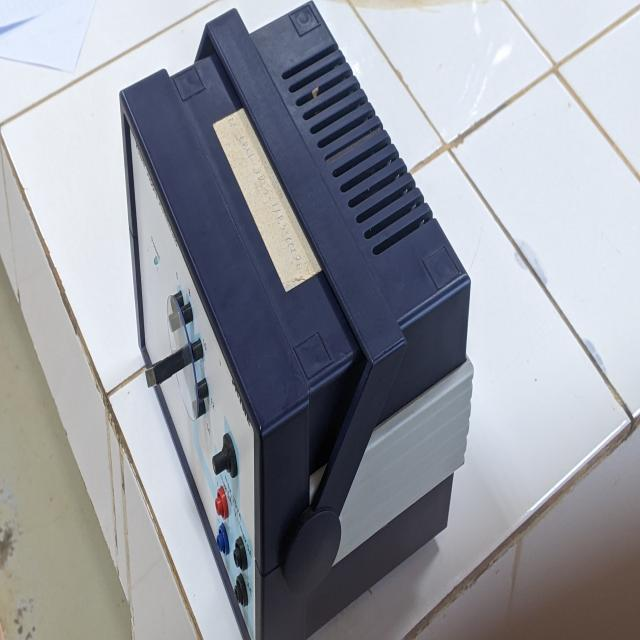Power Supply Stufentrafo_75VA: (110, 1, 490, 632)
